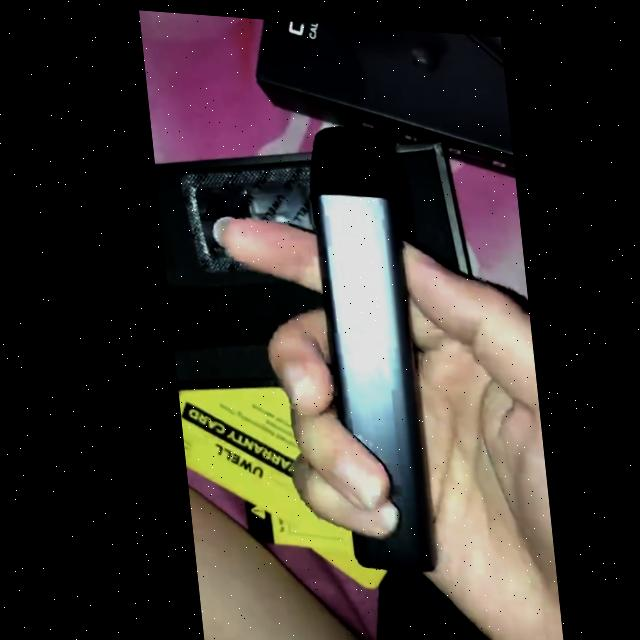vape: (299, 117, 428, 566)
